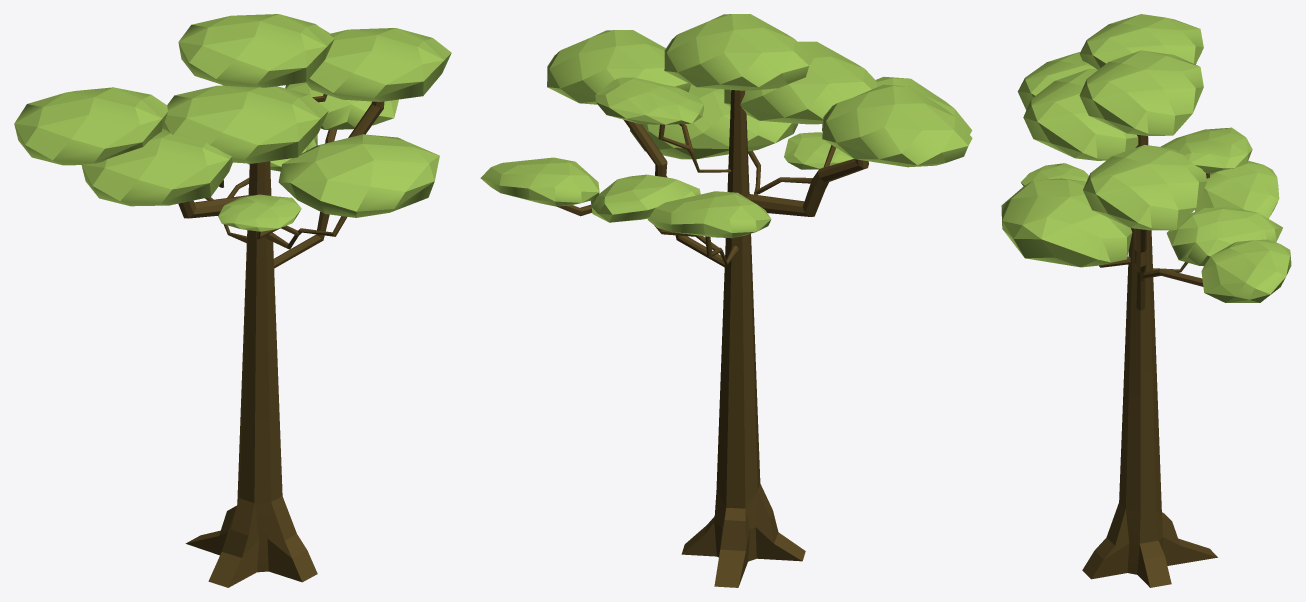
File: SM_RF_AshTree_001.fbx
3 renders of one model, left to right at view 1: azimuth 30°, elevation 25°; view 2: azimuth 150°, elevation 25°; view 3: azimuth 270°, elevation 25°, orthographic. The views are drawn at different scales.
Parts seen in each view (by area): view 1: SM_RF_AshTree_001; view 2: SM_RF_AshTree_001; view 3: SM_RF_AshTree_001.
Part boxes in pixels (box(x1,y1,x2,y2)): SM_RF_AshTree_001: box(14, 14, 451, 587); SM_RF_AshTree_001: box(480, 14, 972, 587); SM_RF_AshTree_001: box(1001, 14, 1291, 587).
Size of the model in its own units: 1840 by 2196 by 1162.
